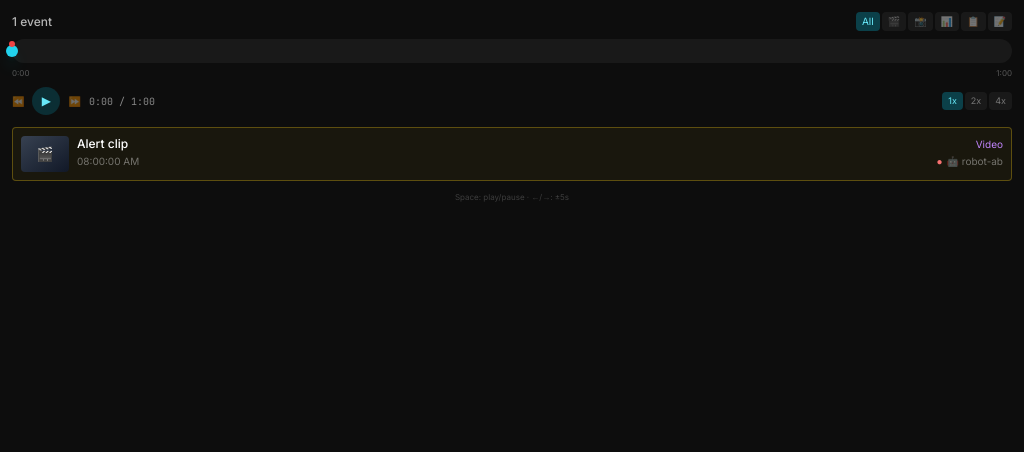
ReplayReviewModule › shows detail panel when entry is selected
This screenshot has width=1024, height=452.
Click the text "Alert clip". click: {"x": 103, "y": 144}
box: [77,136,128,152]
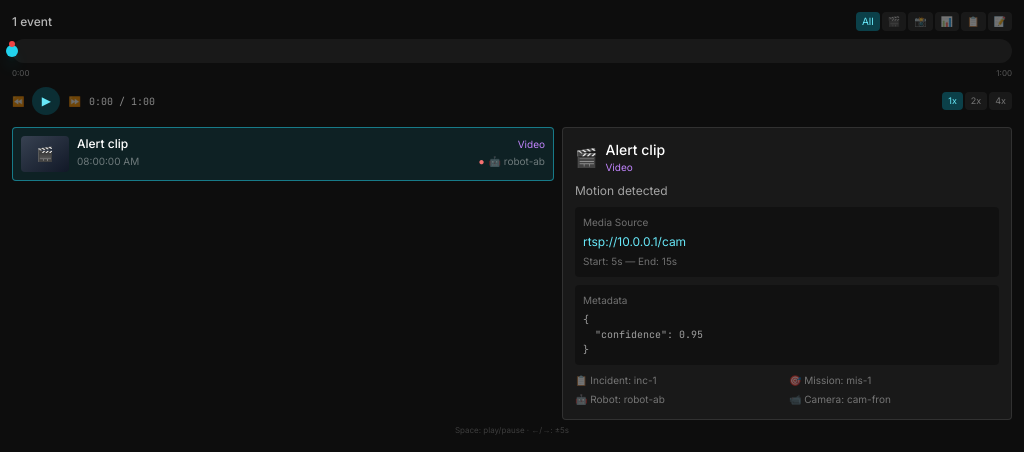
Expected: the text "Media Source" is shown, [583,216,648,228]
Expected: the text "rtsp://10.0.0.1/cam" is shown, [583,234,686,249]
Expected: the text "Start: 5s — End: 15s" is shown, [583,255,677,267]
